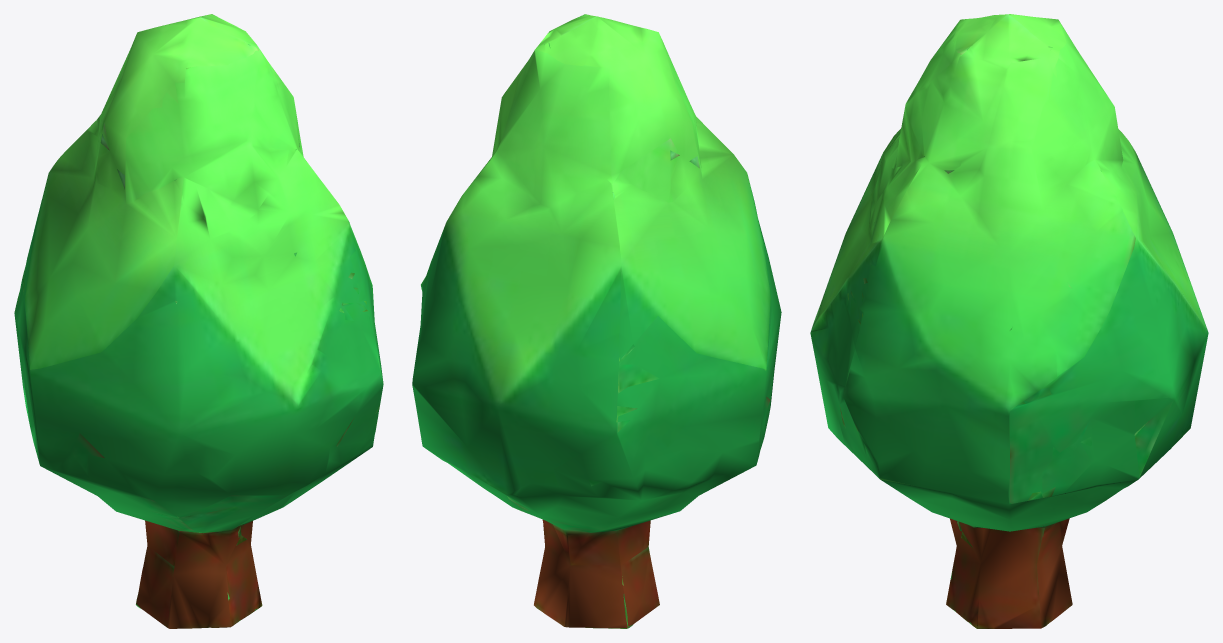
Rendered from prop-tree.glb.
3 views of the same model, side by side, from view 1: azimuth 30°, elevation 25°; view 2: azimuth 150°, elevation 25°; view 3: azimuth 270°, elevation 25° (orthographic).
Visible parts, largest first — view 1: Mesh_0; view 2: Mesh_0; view 3: Mesh_0.
Part boxes in pixels (box(x1,y1,x2,y2)): Mesh_0: box(14, 14, 383, 628); Mesh_0: box(412, 14, 781, 628); Mesh_0: box(810, 14, 1208, 628).
Bounding box in the file's own units: 1.15 × 1.91 × 1.16.
Materials: 1 (1 with a texture image).
